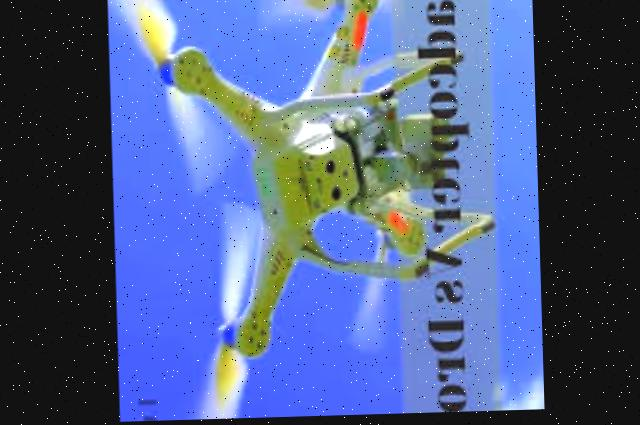drone: (107, 0, 501, 423)
